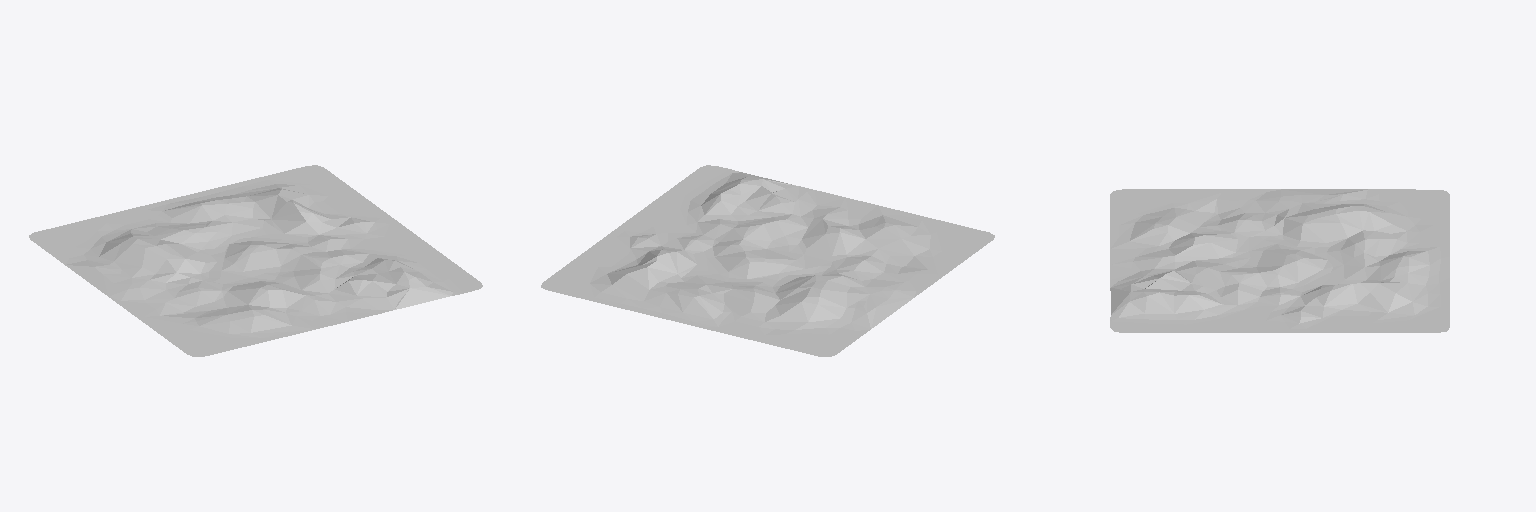
The model's file is Ground03.obj.
3 views of the same model, side by side, from view 1: azimuth 30°, elevation 25°; view 2: azimuth 150°, elevation 25°; view 3: azimuth 270°, elevation 25° (orthographic).
Visible parts, largest first — view 1: Plane; view 2: Plane; view 3: Plane.
Boxes of the visible parts, x1,y1,x2,y2 form: Plane: [29, 165, 482, 356]; Plane: [541, 165, 994, 356]; Plane: [1110, 189, 1449, 332].
Bounding box in the file's own units: 200 × 11.05 × 200.